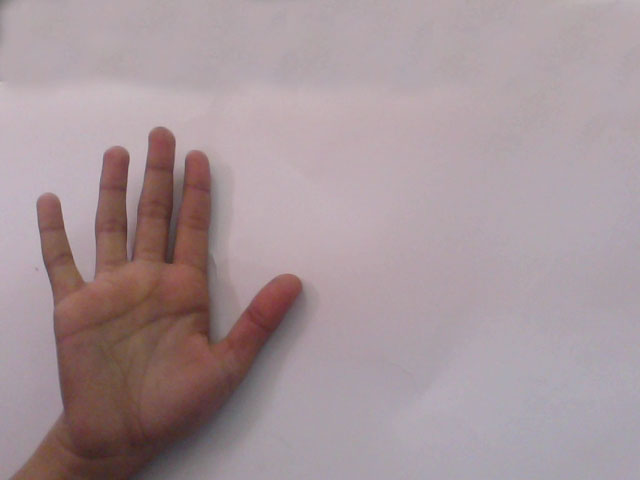hand: (29, 119, 314, 451)
